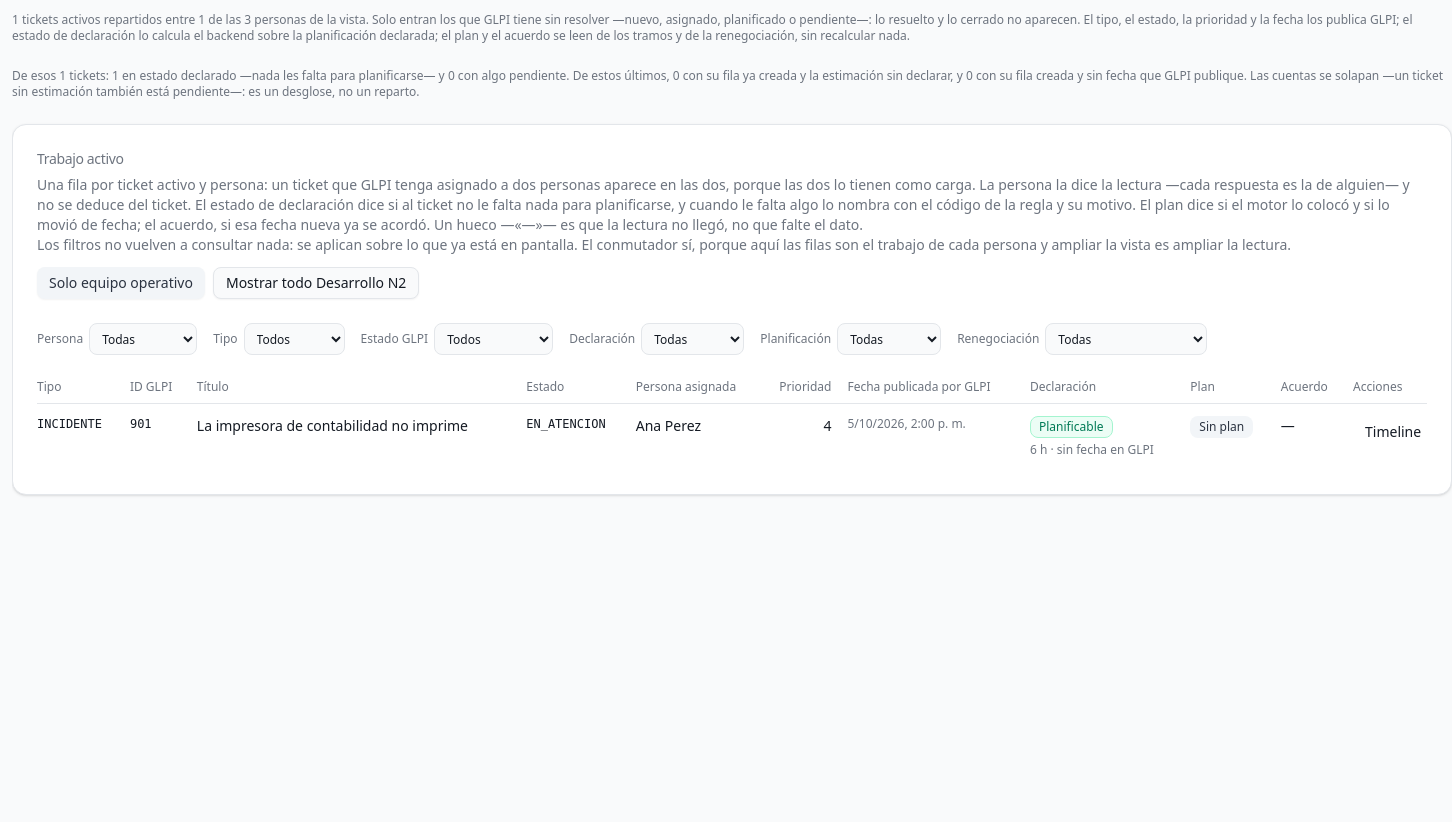
it: Incidents › un filtro que no deja pasar nada lo dice sin vaciar la pantalla
This screenshot has width=1452, height=822.
Expected: the text "Trabajo activo" is shown, 37,149 -> 124,168
Select "Pendiente" in the dropdown labelled "Declaración" at (693, 339), box 641,323 -> 744,355
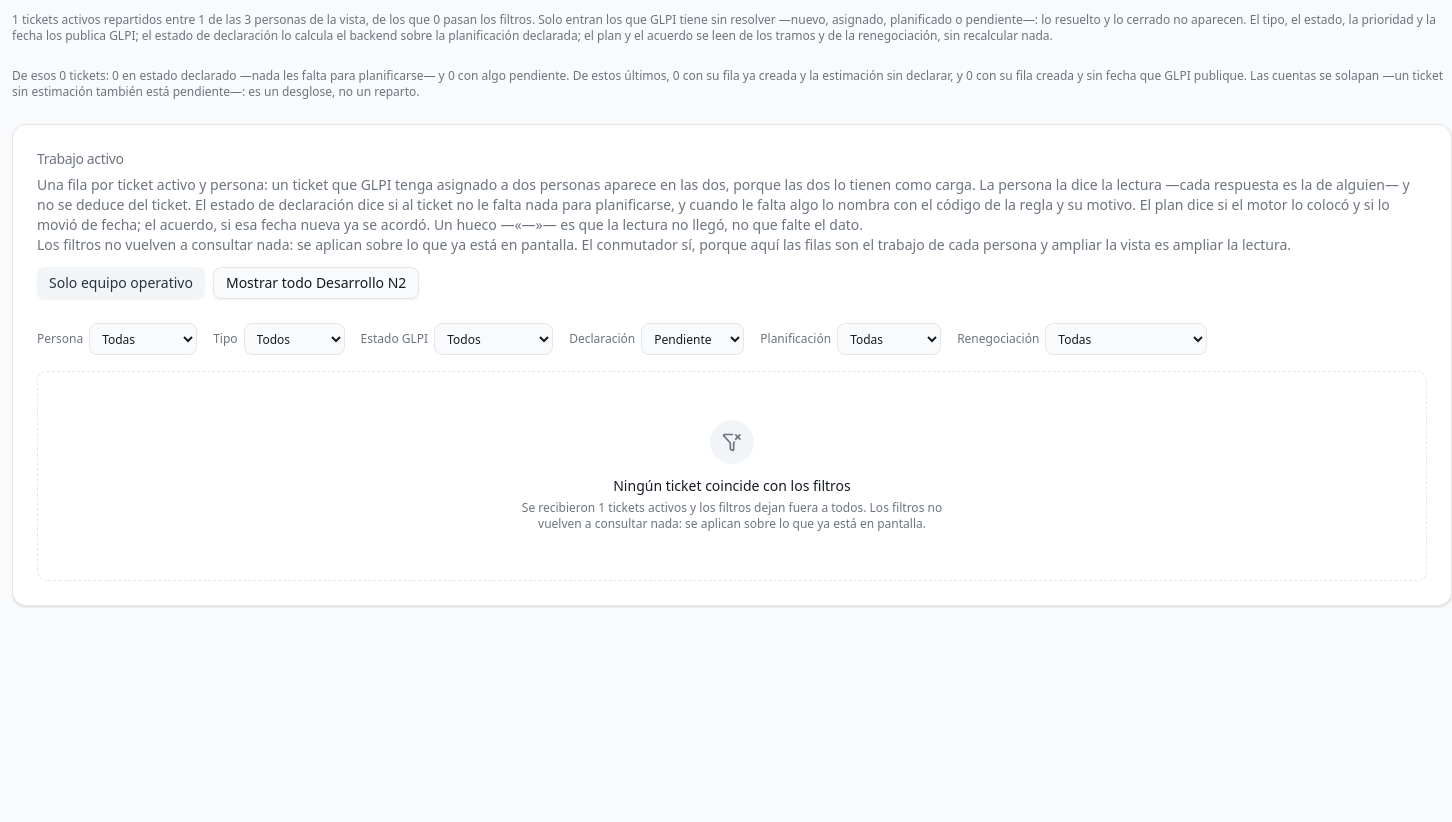
Expected: the text "Ningún ticket coincide con los filtros" is shown, 613,476 -> 851,495
